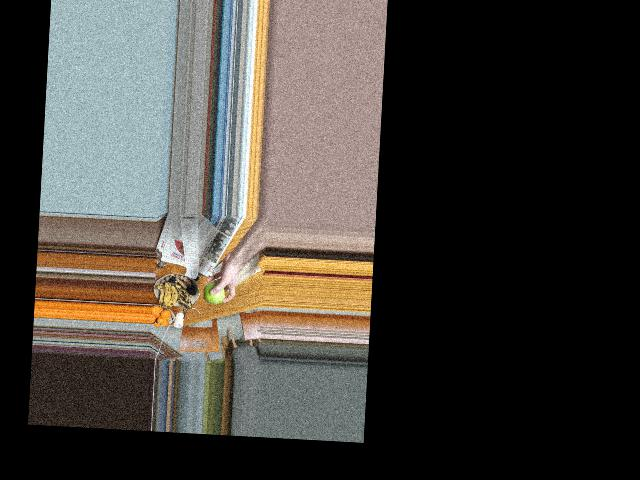apple: (202, 279, 225, 304)
